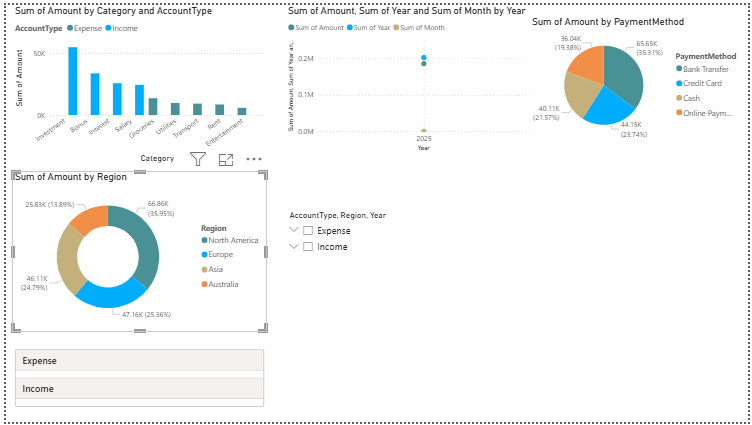

Layout of this report page (visuals, bound fields, positions):
{"tool":"powerbi","page":{"name":"Page 1","canvas":[1280,720],"ordinal":0},"visuals":[{"type":"clusteredColumnChart","fields":{"Category":["Financial_Dataset_100_Records.Category"],"Y":["Sum(Financial_Dataset_100_Records.Amount)"],"Series":["Financial_Dataset_100_Records.AccountType"]},"box":[10.1,0,440.1,277.2],"z":0},{"type":"lineChart","fields":{"Category":["Financial_Dataset_100_Records.Date.Variation.Date Hierarchy.Year","Financial_Dataset_100_Records.Date.Variation.Date Hierarchy.Quarter","Financial_Dataset_100_Records.Date.Variation.Date Hierarchy.Month","Financial_Dataset_100_Records.Date.Variation.Date Hierarchy.Day"],"Y":["Sum(Financial_Dataset_100_Records.Amount)","Sum(Financial_Dataset_100_Records.Year)","Sum(Financial_Dataset_100_Records.Month)"]},"box":[482.1,0,425,257],"z":1},{"type":"donutChart","fields":{"Category":["Financial_Dataset_100_Records.Region"],"Y":["Sum(Financial_Dataset_100_Records.Amount)"]},"box":[10,287,440,277],"z":2},{"type":"pieChart","fields":{"Category":["Financial_Dataset_100_Records.PaymentMethod"],"Y":["Sum(Financial_Dataset_100_Records.Amount)"]},"box":[902,18.5,378,220.1],"z":3},{"type":"slicer","fields":{"Values":["Financial_Dataset_100_Records.AccountType","Financial_Dataset_100_Records.Region","Financial_Dataset_100_Records.Year"]},"box":[475.4,349.4,440.1,215],"z":4},{"type":"cardVisual","fields":{"Rows":["Financial_Dataset_100_Records.AccountType"]},"box":[10,570,440,150],"z":5}]}

Visuals, with their boxes in screenshot pixels (x1, y1, x2, y2), scaled from the page's 1280x720 canvas onto the 752x425 screenshot:
clusteredColumnChart - Financial_Dataset_100_Records.Category x Sum(Financial_Dataset_100_Records.Amount): locate(6, 0, 264, 164)
lineChart - Financial_Dataset_100_Records.Date.Variation.Date Hierarchy.Year x Financial_Dataset_100_Records.Date.Variation.Date Hierarchy.Quarter: locate(283, 0, 533, 152)
donutChart - Financial_Dataset_100_Records.Region x Sum(Financial_Dataset_100_Records.Amount): locate(6, 169, 264, 333)
pieChart - Financial_Dataset_100_Records.PaymentMethod x Sum(Financial_Dataset_100_Records.Amount): locate(530, 11, 751, 141)
slicer - Financial_Dataset_100_Records.AccountType x Financial_Dataset_100_Records.Region: locate(279, 206, 538, 333)
cardVisual - Financial_Dataset_100_Records.AccountType: locate(6, 336, 264, 424)
